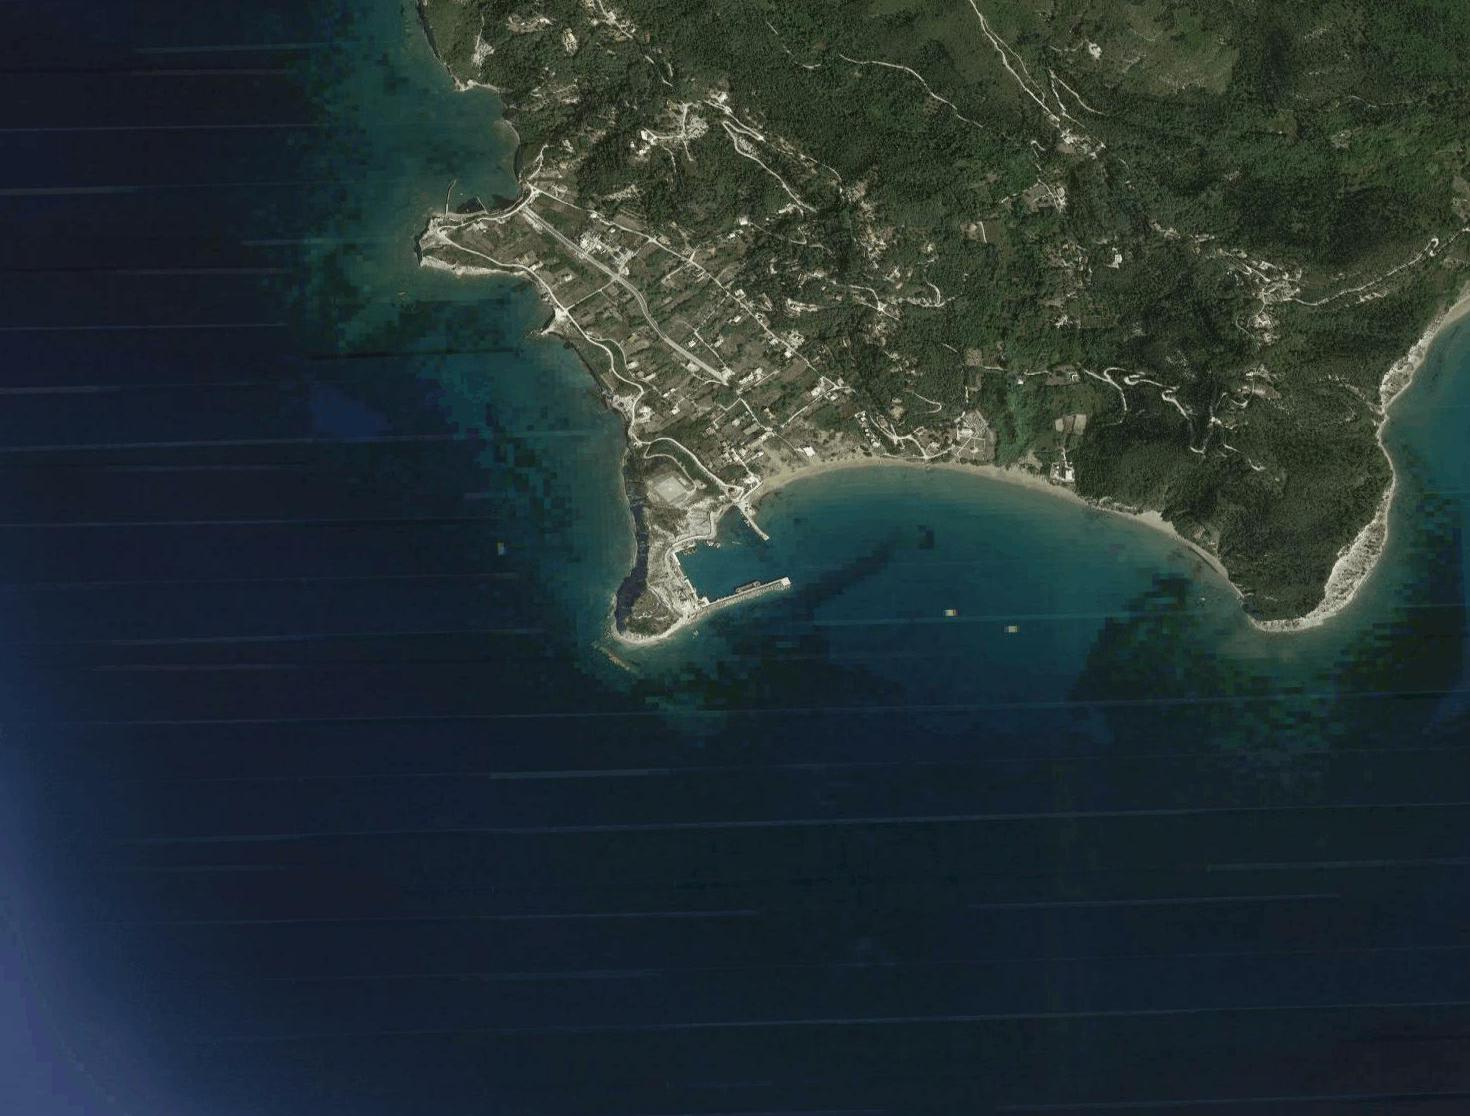harbor: (663, 491, 795, 628)
